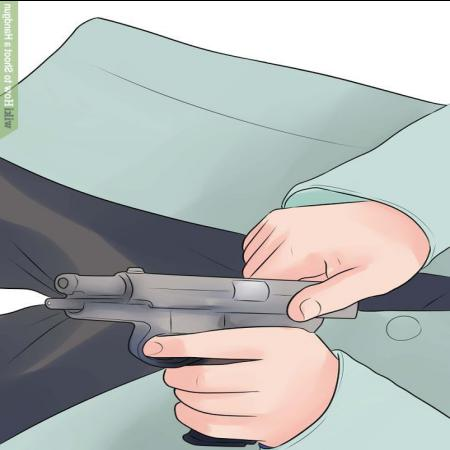Pistol: (40, 272, 360, 450)
